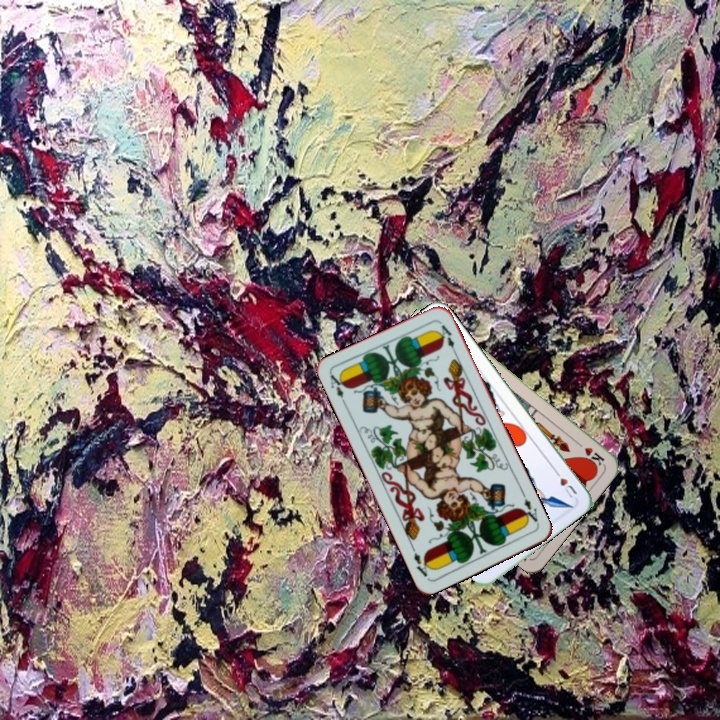EA: (517, 494, 542, 527), (326, 369, 348, 400)
HK: (571, 437, 607, 468)
HU: (550, 465, 580, 501)
